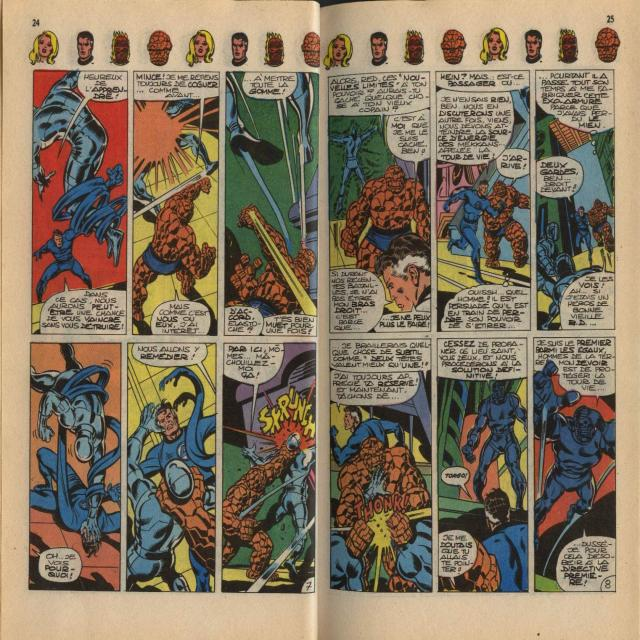comic_panel: (328, 72, 433, 334), (328, 337, 433, 594), (30, 70, 129, 338), (223, 70, 321, 337), (435, 70, 532, 334), (219, 340, 317, 596), (130, 67, 220, 338), (436, 337, 530, 596), (28, 342, 121, 594), (126, 342, 217, 594), (533, 336, 617, 594), (535, 68, 616, 332)
